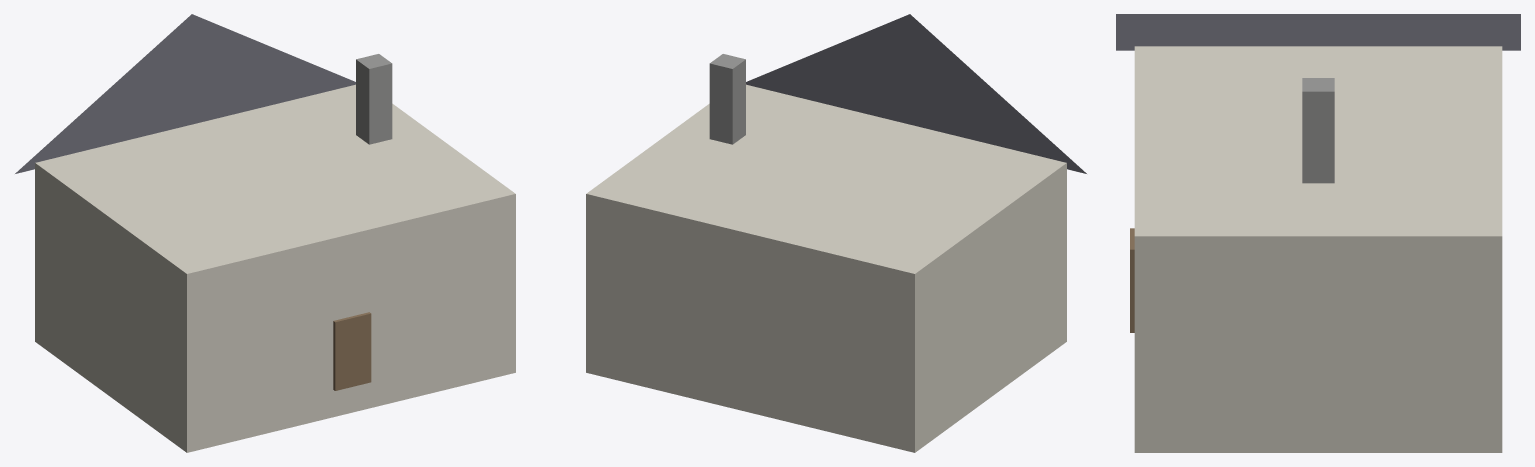
Rendered from house_5.glb.
3 views of the same model, side by side, from view 1: azimuth 30°, elevation 25°; view 2: azimuth 150°, elevation 25°; view 3: azimuth 270°, elevation 25° (orthographic). The views are drawn at different scales.
Bounding box in the file's own units: 10.8 × 8.2 × 8.8.
